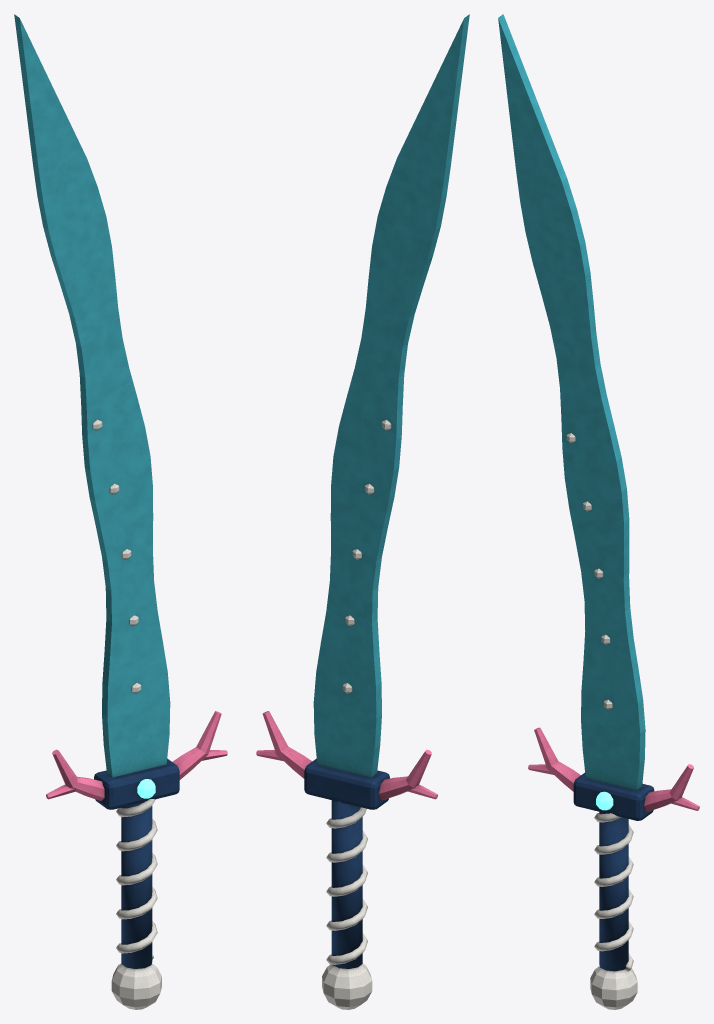
The model's file is 10_abyss_sword.fbx.
The picture shows the model from 3 angles, left to right: view 1: azimuth 30°, elevation 25°; view 2: azimuth 150°, elevation 25°; view 3: azimuth 330°, elevation 25°; orthographic projection. The views are drawn at different scales.
Visible parts, largest first — view 1: Weapon; view 2: Weapon; view 3: Weapon.
Boxes of the visible parts, box(x1,y1,x2,y2) form: Weapon: box(14, 14, 227, 1009); Weapon: box(256, 14, 469, 1009); Weapon: box(498, 14, 699, 1009).
Bounding box in the file's own units: 27.09 × 126 × 6.07.
2 materials, 1 textured.
